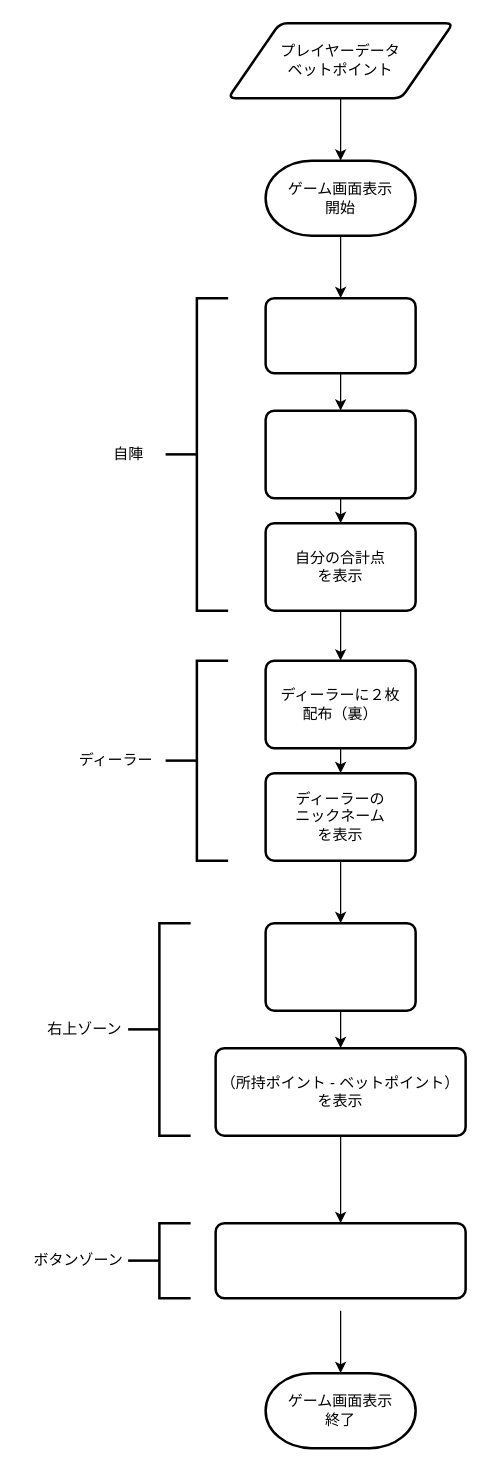
The diagram is 488 pixels wide and 1470 high, and some of its shapes have lost their labels. The shapes that lost their labels are listed below. From the top down, each one's box as (x1, y1, x2, y2) in pixels, then its label:
(264, 296, 416, 374): 自分の手札に２枚 配布（表）
(264, 409, 416, 499): 自分のニックネーム を表示
(264, 921, 416, 1011): ベットポイントを 表示
(214, 1221, 466, 1299): ヒット、ダブル、スタンド、 サレンダーのボタンを表示
